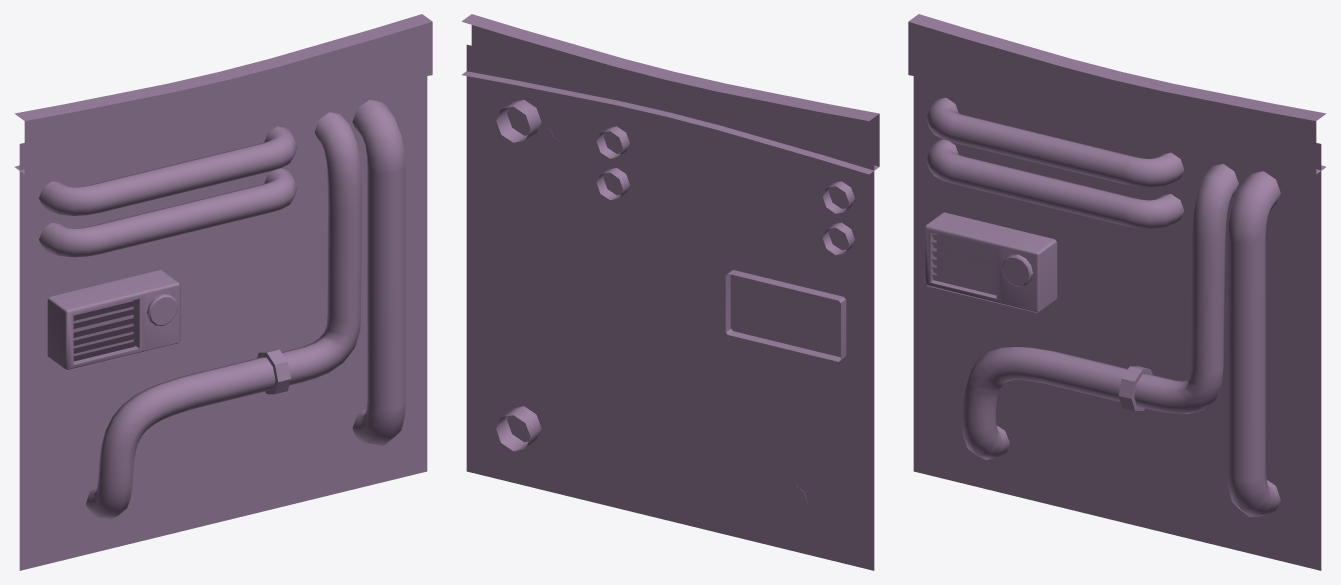
The model's file is Wallpipes_1.fbx.
3 renders of one model, left to right at view 1: azimuth 30°, elevation 25°; view 2: azimuth 150°, elevation 25°; view 3: azimuth 330°, elevation 25°, orthographic.
Visible parts, largest first — view 1: Wallpipes_1; view 2: Wallpipes_1; view 3: Wallpipes_1.
Part boxes in pixels (left/top/right/bottom): Wallpipes_1: left=14, top=14, right=432, bottom=570; Wallpipes_1: left=461, top=14, right=879, bottom=570; Wallpipes_1: left=908, top=14, right=1326, bottom=570.
Size of the model in its own units: 4 by 4.25 by 0.6408.
